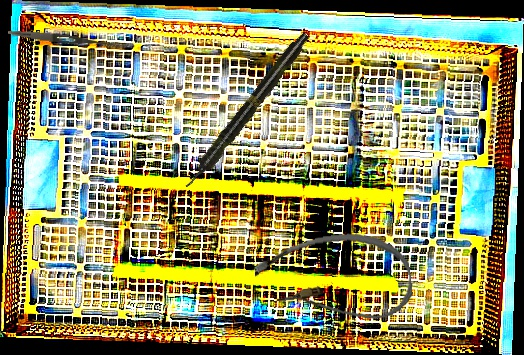Cannula: (251, 226, 416, 334)
Dressing Forceps: (7, 28, 121, 49)
Handpiece: (180, 29, 313, 193)
